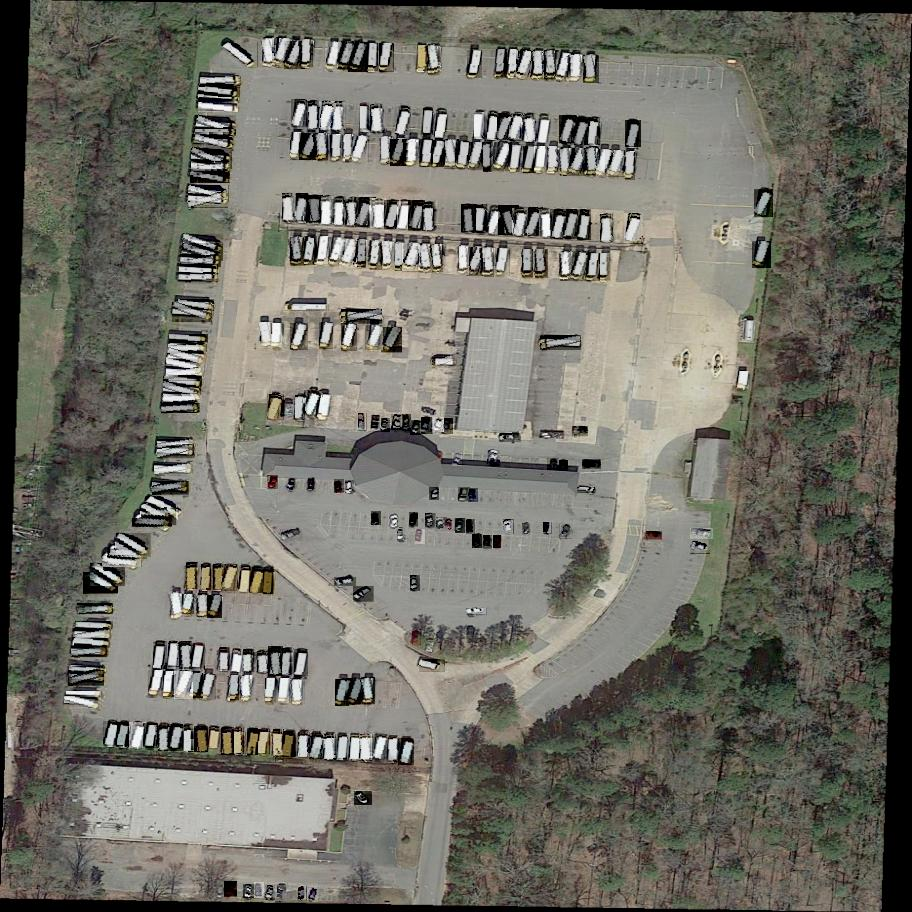large-vehicle: (223, 40, 258, 69), (145, 495, 184, 520), (141, 503, 177, 529), (192, 148, 232, 170), (90, 563, 125, 588), (116, 533, 151, 558), (183, 234, 224, 255), (84, 572, 120, 595), (195, 115, 236, 135), (172, 302, 213, 322), (182, 244, 224, 263), (193, 134, 234, 152), (189, 185, 229, 203), (167, 347, 207, 365), (163, 381, 202, 399), (188, 193, 229, 210), (567, 147, 590, 177), (284, 39, 306, 70), (498, 206, 520, 237), (348, 41, 369, 73), (341, 309, 383, 325), (492, 142, 513, 173), (403, 242, 424, 273), (356, 198, 377, 229), (624, 213, 644, 245), (65, 695, 102, 712), (325, 40, 344, 73), (166, 357, 205, 373), (300, 133, 322, 161), (381, 326, 403, 354), (467, 247, 488, 276), (317, 101, 337, 131), (274, 38, 294, 68), (524, 208, 544, 238), (570, 252, 590, 282), (516, 49, 535, 80), (67, 671, 106, 686), (607, 150, 627, 179), (485, 207, 505, 236), (340, 240, 360, 269), (174, 671, 194, 700), (556, 51, 574, 83), (199, 84, 240, 98), (541, 336, 582, 350), (338, 41, 357, 71), (290, 322, 309, 352), (157, 445, 195, 460), (190, 170, 230, 184), (262, 37, 280, 68), (409, 201, 427, 232), (497, 113, 516, 142), (752, 241, 771, 270), (563, 210, 581, 240), (328, 238, 346, 268), (370, 199, 388, 229), (304, 390, 324, 417), (341, 323, 359, 353), (755, 190, 774, 218), (74, 628, 112, 642), (550, 209, 567, 240), (560, 116, 578, 145), (468, 142, 486, 171), (596, 149, 614, 178), (291, 100, 309, 129), (429, 140, 447, 169), (391, 138, 409, 167), (222, 564, 240, 593), (365, 325, 384, 352), (583, 55, 600, 85), (384, 200, 401, 230), (102, 555, 141, 568), (574, 118, 592, 146), (180, 256, 222, 268), (353, 135, 371, 163), (347, 678, 365, 706), (177, 298, 215, 311), (510, 113, 527, 142), (344, 199, 361, 228), (512, 208, 529, 237), (129, 722, 147, 749), (152, 482, 189, 495), (395, 106, 411, 136), (461, 204, 477, 234), (268, 646, 284, 676), (522, 115, 539, 143), (307, 196, 324, 224), (372, 734, 389, 762), (154, 463, 193, 475), (467, 48, 482, 79), (544, 50, 559, 81), (577, 209, 592, 240), (625, 120, 641, 149), (371, 105, 387, 134), (444, 140, 460, 169), (268, 393, 285, 420), (249, 567, 266, 594), (168, 725, 185, 752), (200, 674, 217, 701), (157, 439, 195, 451), (166, 369, 204, 381), (109, 548, 147, 560), (423, 202, 438, 232), (496, 248, 511, 278), (294, 648, 309, 678), (290, 132, 306, 160), (359, 734, 375, 762), (398, 737, 414, 765), (104, 720, 120, 748), (198, 102, 238, 113), (296, 194, 311, 223), (169, 591, 184, 620), (283, 194, 298, 223), (309, 733, 325, 760), (72, 647, 108, 659), (335, 679, 351, 706), (189, 673, 205, 700), (169, 334, 208, 345), (164, 377, 203, 388), (332, 102, 346, 132), (380, 43, 394, 73), (291, 238, 306, 266), (304, 236, 318, 266), (420, 244, 434, 274), (419, 138, 433, 168), (397, 200, 411, 230), (540, 209, 554, 239), (560, 251, 574, 281), (587, 253, 601, 283), (361, 678, 376, 706), (149, 670, 164, 698), (428, 44, 441, 76), (207, 595, 224, 619), (77, 604, 114, 615), (523, 145, 537, 174), (457, 141, 471, 170), (433, 244, 447, 273), (259, 323, 274, 350), (201, 77, 241, 87), (74, 639, 110, 650), (601, 214, 615, 242), (153, 641, 167, 669), (144, 723, 159, 749), (180, 265, 218, 275), (319, 323, 333, 350), (221, 728, 235, 755), (238, 566, 252, 593), (195, 726, 209, 753), (586, 147, 599, 176), (317, 236, 330, 265), (535, 249, 548, 278), (322, 197, 335, 225), (323, 734, 337, 760), (459, 245, 471, 275), (162, 395, 202, 404), (487, 112, 500, 139), (191, 164, 230, 173), (246, 728, 259, 755), (179, 642, 192, 669), (435, 110, 447, 139), (561, 147, 573, 176), (370, 241, 382, 270), (334, 197, 346, 226), (75, 621, 113, 630), (161, 404, 199, 413), (534, 146, 547, 172), (278, 678, 291, 704), (193, 643, 206, 669), (538, 115, 550, 143), (432, 355, 456, 369), (534, 50, 545, 80), (182, 594, 197, 616), (118, 722, 131, 747), (381, 136, 393, 163), (349, 734, 361, 761), (293, 678, 305, 705), (164, 671, 176, 698), (259, 729, 271, 755), (168, 641, 180, 667), (485, 246, 495, 277), (523, 249, 534, 277), (242, 675, 253, 703), (168, 344, 206, 352), (298, 732, 310, 757), (308, 102, 319, 129), (330, 135, 341, 162), (187, 563, 198, 590), (286, 304, 328, 311), (384, 241, 394, 270), (197, 594, 209, 618), (231, 649, 243, 673), (590, 119, 601, 145), (284, 731, 295, 757), (233, 728, 244, 754), (213, 564, 224, 590), (178, 275, 218, 282), (423, 109, 434, 134), (388, 737, 399, 762), (133, 519, 172, 526), (510, 145, 520, 172), (302, 40, 312, 67), (496, 50, 506, 77), (476, 205, 486, 232), (408, 139, 418, 166), (209, 726, 221, 748), (244, 649, 255, 673), (395, 242, 404, 271), (318, 134, 328, 160), (159, 725, 169, 751), (219, 648, 230, 671), (626, 152, 635, 180), (572, 54, 581, 82), (357, 239, 366, 267), (418, 46, 428, 71), (202, 564, 212, 589), (264, 569, 274, 594), (69, 666, 104, 673), (601, 253, 610, 280), (274, 729, 283, 756), (258, 652, 269, 674), (196, 129, 236, 135), (738, 371, 750, 391), (266, 678, 276, 702), (369, 44, 378, 70), (484, 143, 492, 172), (272, 324, 282, 347), (475, 112, 484, 137), (230, 675, 239, 700), (548, 147, 557, 171), (184, 725, 192, 752), (283, 648, 291, 675), (510, 50, 518, 76), (360, 104, 368, 129), (199, 95, 238, 100), (296, 396, 304, 419), (339, 736, 347, 759), (346, 135, 353, 161), (67, 692, 101, 696)
small-vehicle: (353, 586, 375, 605), (419, 659, 444, 673), (354, 789, 372, 807), (690, 528, 713, 541), (280, 529, 303, 542), (690, 541, 710, 555), (421, 404, 441, 418), (422, 415, 435, 434), (225, 881, 238, 899), (435, 517, 449, 533), (487, 450, 500, 467), (582, 459, 601, 470), (458, 486, 471, 502), (499, 433, 522, 442), (415, 529, 427, 546), (334, 577, 356, 586), (503, 520, 516, 535), (560, 524, 573, 539), (243, 884, 255, 900), (442, 419, 454, 435), (572, 427, 589, 438), (433, 418, 445, 433), (402, 414, 412, 432), (286, 477, 297, 493), (456, 518, 467, 534), (255, 882, 265, 899), (308, 888, 319, 903), (411, 420, 422, 435), (408, 513, 419, 528), (389, 513, 399, 529), (268, 476, 279, 490), (548, 458, 559, 472), (453, 453, 464, 467), (468, 488, 479, 502), (266, 885, 276, 900), (466, 519, 476, 534), (392, 415, 402, 430), (371, 511, 381, 526), (473, 535, 483, 549), (382, 418, 392, 432), (334, 480, 344, 494), (430, 487, 440, 501), (359, 413, 367, 430), (371, 415, 380, 430), (410, 576, 419, 590), (523, 522, 532, 536), (446, 518, 455, 532), (466, 608, 486, 614), (493, 536, 502, 549), (426, 514, 435, 527), (413, 630, 420, 646), (647, 532, 662, 539), (483, 535, 491, 548), (346, 480, 354, 493), (559, 460, 568, 471), (277, 885, 284, 899), (309, 478, 316, 492), (299, 887, 306, 900), (398, 527, 404, 540), (544, 523, 551, 533), (578, 488, 595, 492)
